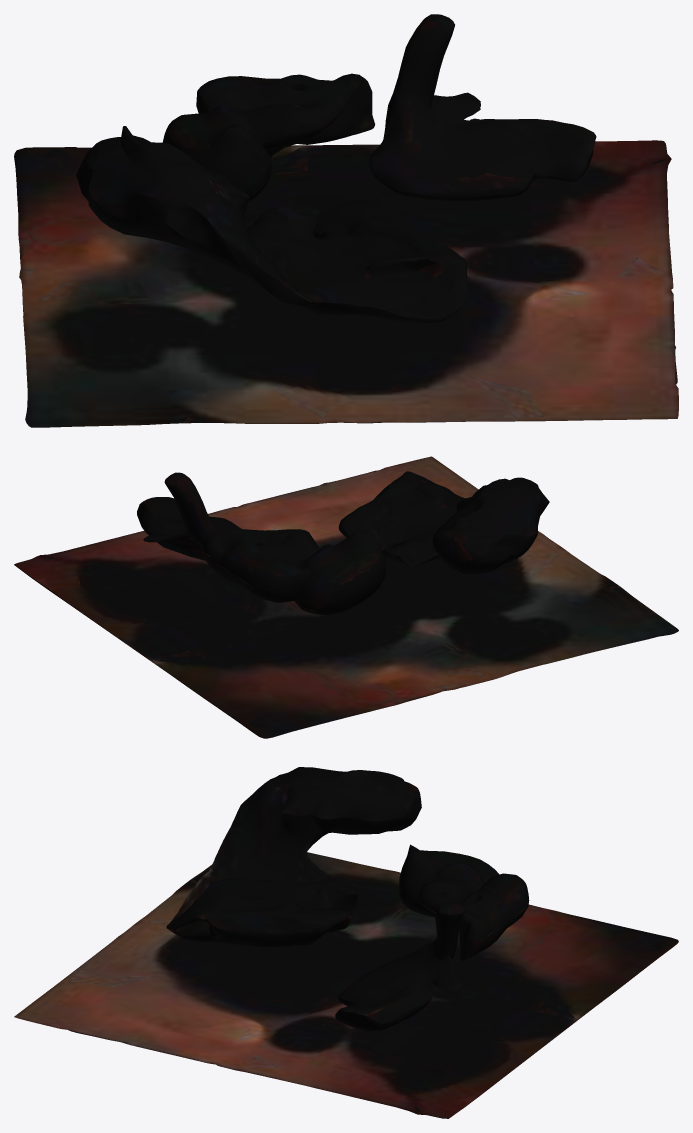
The picture shows the model from 3 angles, top to bottom: view 1: azimuth 30°, elevation 25°; view 2: azimuth 150°, elevation 25°; view 3: azimuth 270°, elevation 25°; orthographic projection. The views are drawn at different scales.
Parts seen in each view (by area): view 1: world; view 2: world; view 3: world.
Part boxes in pixels (x1,y1,x2,y2): world: [14, 14, 678, 427]; world: [14, 456, 678, 738]; world: [14, 767, 678, 1118].
Size of the model in its own units: 1.7 by 0.399 by 1.7.
1 material, 1 textured.
